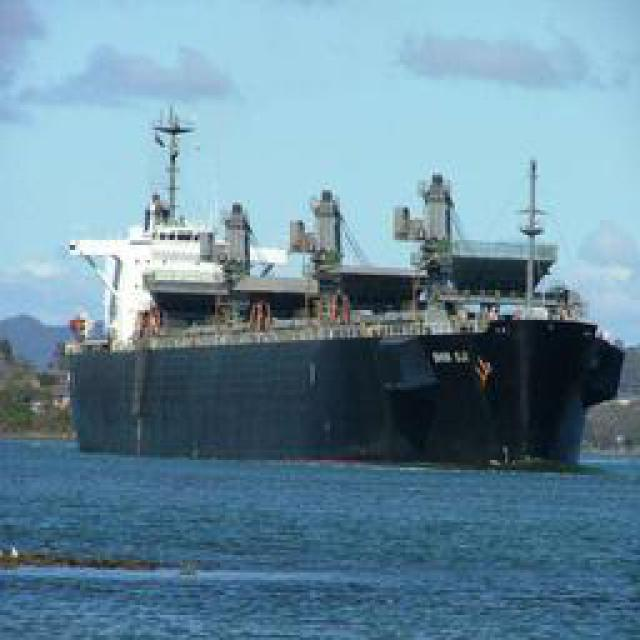Ship: (57, 102, 632, 482)
